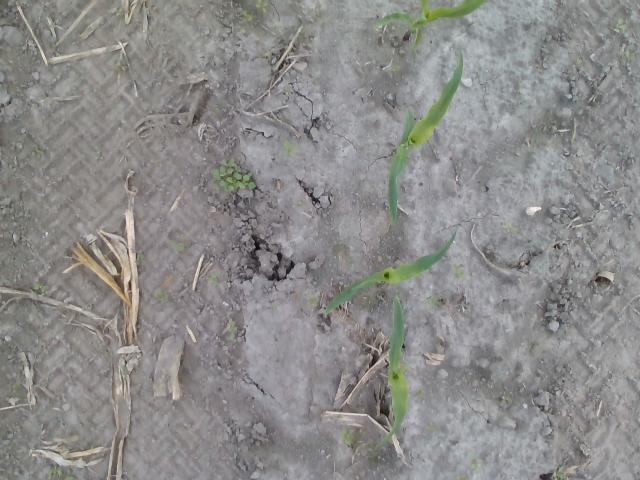Maize: (386, 52, 464, 224), (321, 230, 456, 317), (372, 0, 486, 52), (376, 296, 410, 450)
Weeds: (212, 158, 257, 194), (49, 465, 77, 480), (469, 451, 484, 474), (280, 139, 298, 157), (425, 293, 441, 311), (338, 428, 354, 446), (171, 234, 185, 251), (8, 381, 23, 395), (552, 465, 566, 480), (454, 264, 467, 280), (228, 320, 238, 340), (614, 18, 626, 34), (207, 271, 220, 285), (306, 294, 319, 308), (32, 283, 49, 293), (134, 252, 146, 266), (256, 0, 268, 13), (33, 144, 44, 158), (154, 291, 168, 302), (501, 224, 517, 233), (625, 48, 637, 60), (115, 59, 127, 70), (242, 10, 252, 22), (388, 64, 401, 72), (112, 7, 124, 15), (500, 396, 510, 404), (456, 474, 468, 480), (426, 422, 435, 430), (417, 389, 424, 398), (576, 57, 584, 64), (0, 474, 9, 480), (270, 304, 276, 309)
